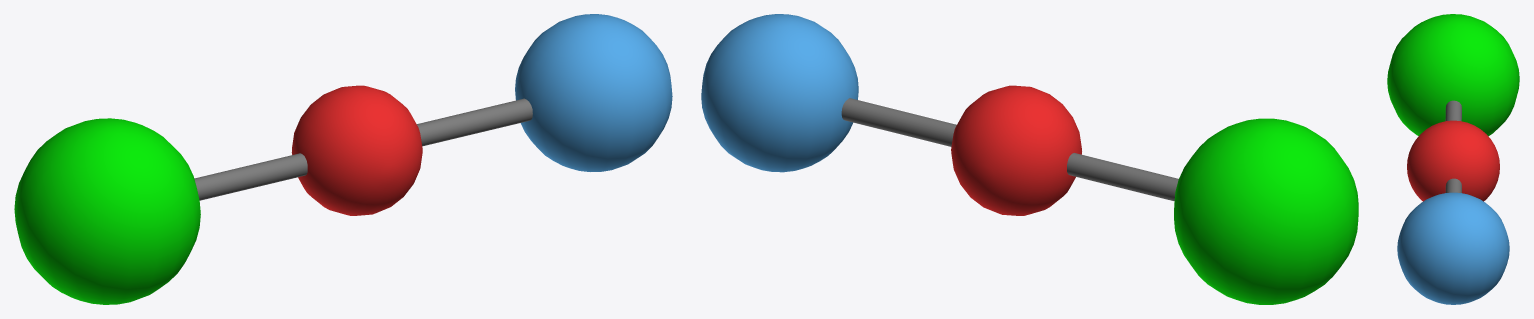
Rendered from NaClO.fbx.
The picture shows the model from 3 angles, left to right: view 1: azimuth 30°, elevation 25°; view 2: azimuth 150°, elevation 25°; view 3: azimuth 270°, elevation 25°; orthographic projection. The views are drawn at different scales.
Parts seen in each view (by area): view 1: NaClO; view 2: NaClO; view 3: NaClO.
Boxes of the visible parts, x1,y1,x2,y2 form: NaClO: (14,14,672,304); NaClO: (701,14,1358,304); NaClO: (1387,14,1519,304).
Bounding box in the file's own units: 10.34 × 2.63 × 2.63.
